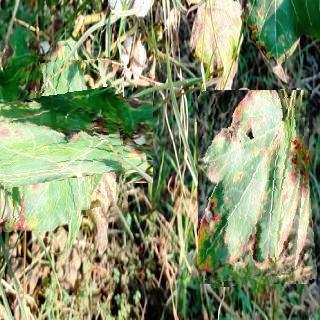blight: (198, 90, 313, 286), (0, 60, 124, 219)
